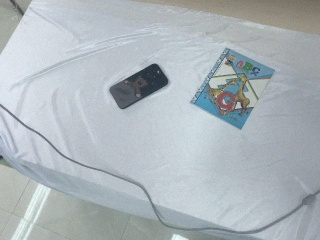book: (190, 48, 275, 130)
phone: (109, 63, 169, 110)
